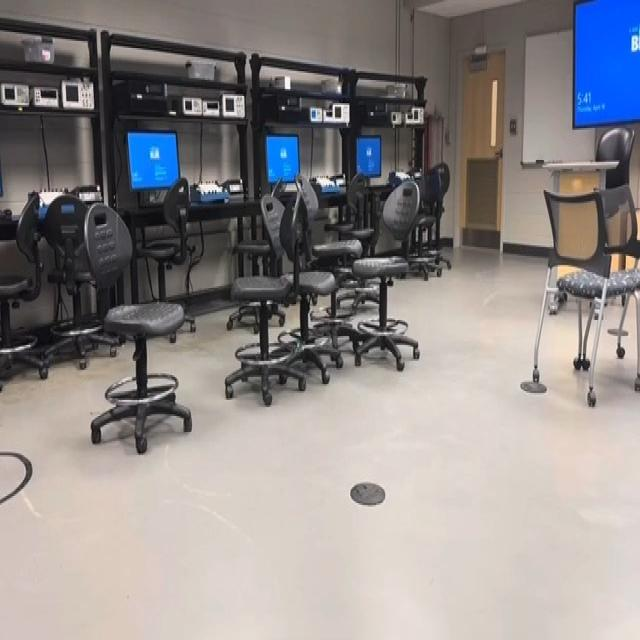drone: (279, 330, 315, 370)
